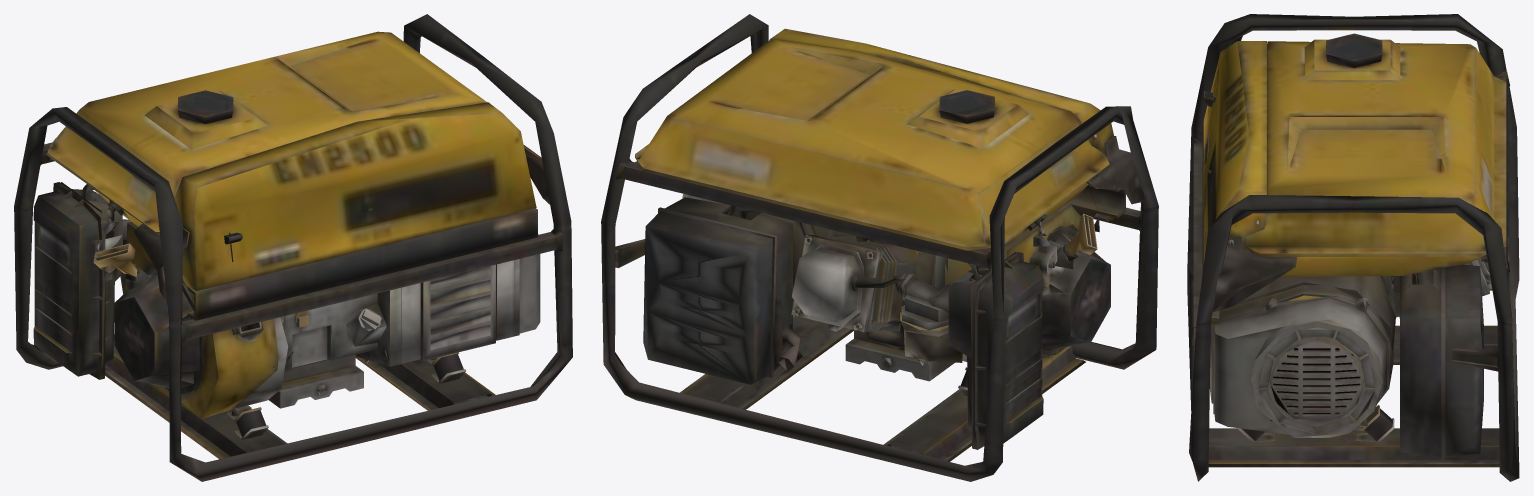
Rendered from generator-low.glb.
The picture shows the model from 3 angles, left to right: view 1: azimuth 30°, elevation 25°; view 2: azimuth 150°, elevation 25°; view 3: azimuth 270°, elevation 25°; orthographic projection.
Visible parts, largest first — view 1: portable_generator; view 2: portable_generator; view 3: portable_generator.
Boxes of the visible parts, x1,y1,x2,y2 form: portable_generator: (14, 14, 572, 481); portable_generator: (601, 14, 1158, 481); portable_generator: (1187, 14, 1519, 481).
Bounding box in the file's own units: 0.8146 × 0.5752 × 0.5615.
2 materials, 2 textured.
